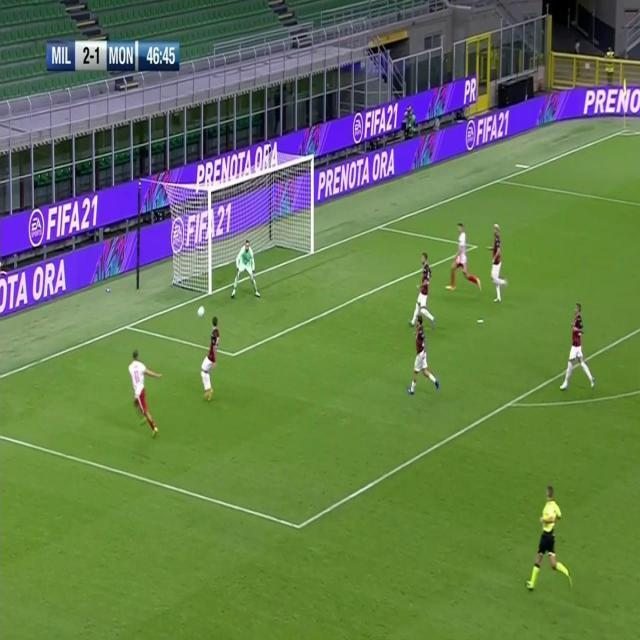ball: (196, 303, 206, 319)
goalkeeper: (231, 236, 261, 301)
player: (128, 344, 163, 437), (561, 301, 596, 393), (408, 318, 440, 401), (447, 222, 482, 297), (408, 248, 436, 331), (200, 317, 222, 406), (488, 220, 508, 305)
referee: (526, 486, 571, 603)
